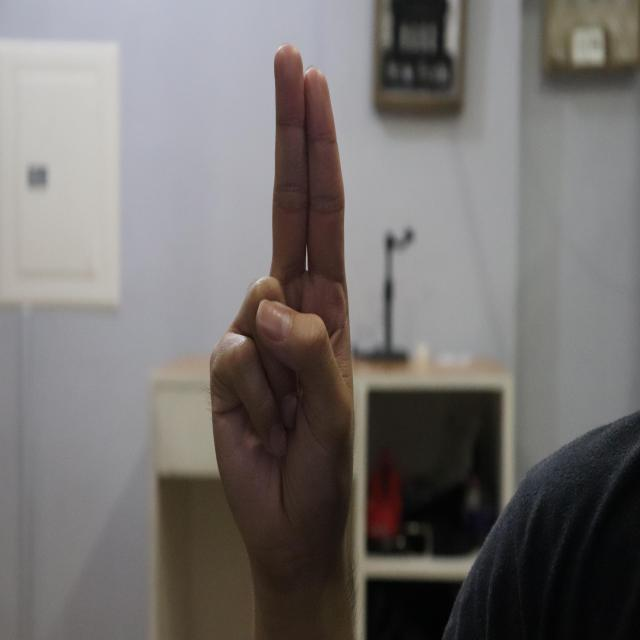U: (210, 42, 355, 582)
